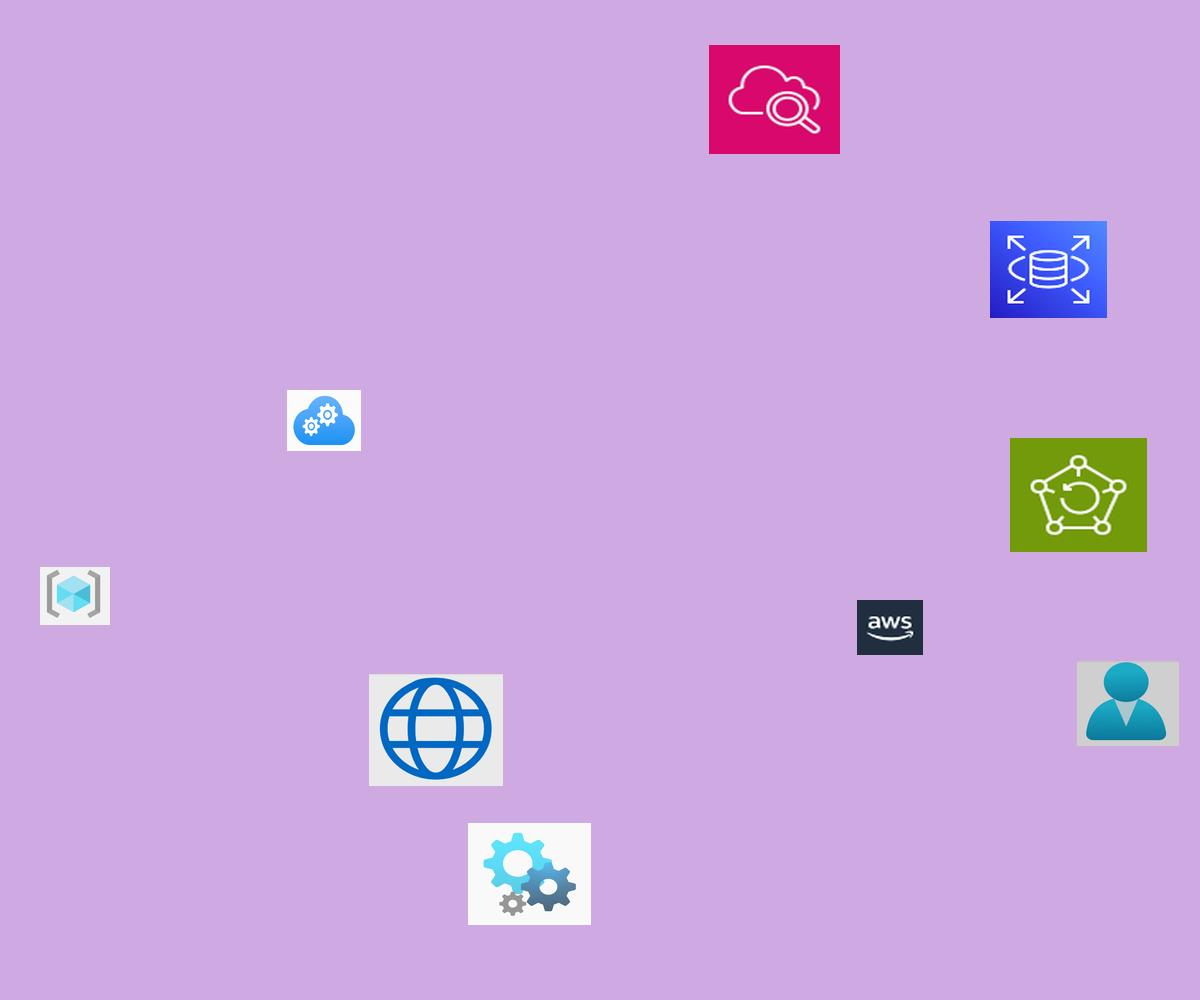AWS-Backup: (1010, 438, 1147, 552)
AWS-Cloud-logo: (857, 600, 923, 655)
AWS-CloudWatch: (709, 45, 840, 154)
AWS-RDS: (990, 221, 1107, 318)
Azure_api: (468, 823, 591, 925)
Azure_cloud_services: (287, 390, 361, 451)
Azure_http: (369, 674, 503, 786)
Azure_resource_group: (40, 567, 110, 625)
Azure_users: (1077, 661, 1179, 746)
